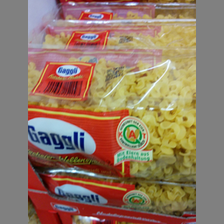pasta: (28, 49, 195, 183), (29, 8, 196, 48)
